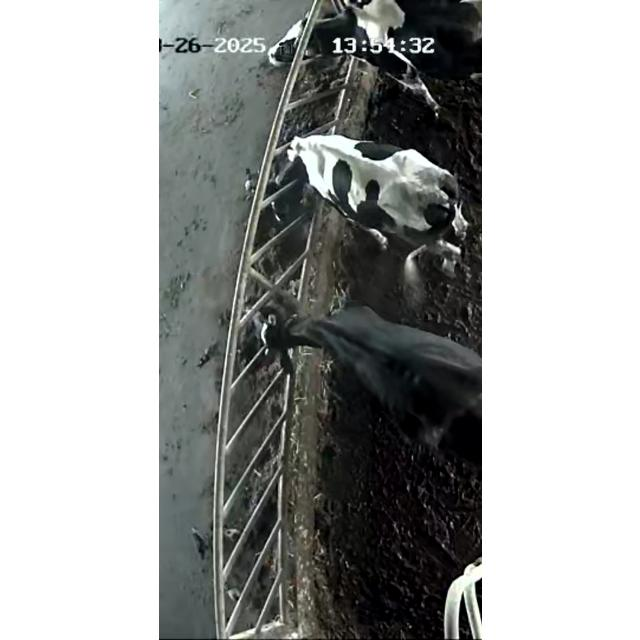eat: (201, 272, 367, 380), (209, 112, 361, 225), (240, 0, 380, 78)
